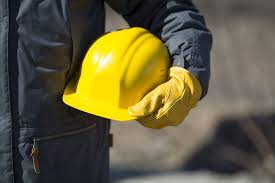hard hat: (62, 26, 171, 121)
